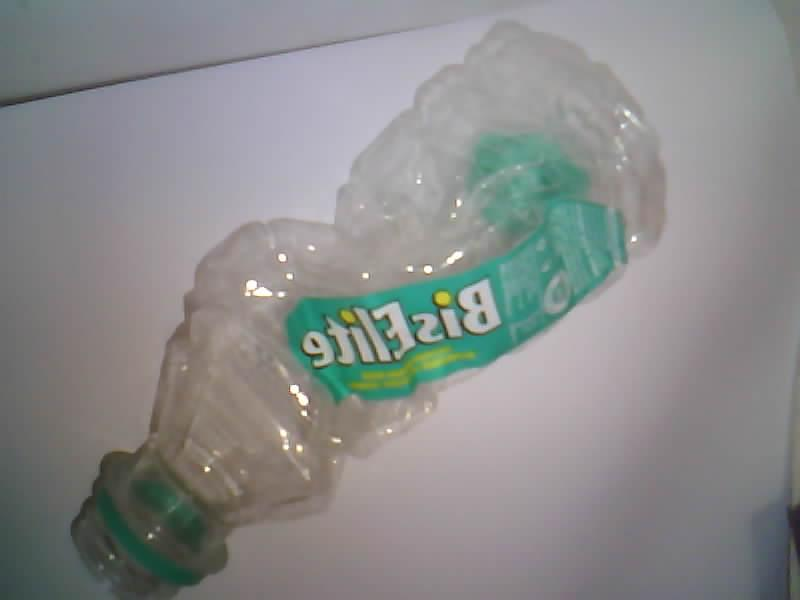non-biodegradable: (73, 23, 664, 599)
